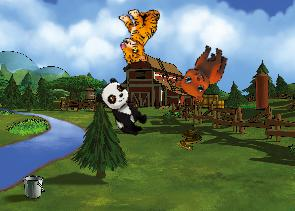bear: (171, 37, 231, 106)
panda: (91, 75, 154, 141)
tiger: (113, 4, 167, 65)
